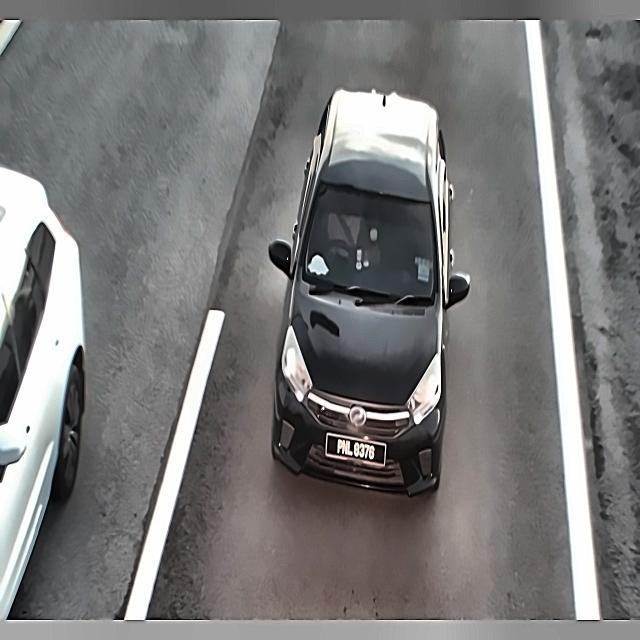car: (324, 432, 388, 469)
